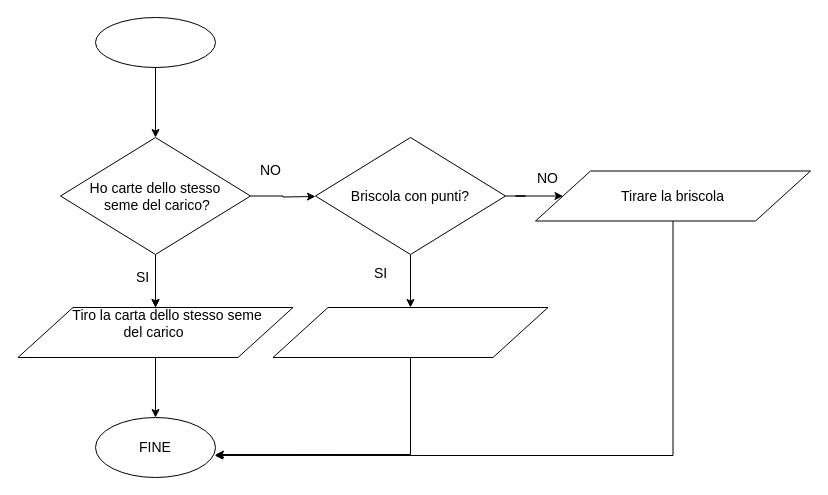
The diagram is 828 pixels wide and 495 high, and some of its shapes have lost their labels. Each missing label, with the box of its shape:
INIZIO: (94, 16, 216, 68)
Tirare la carta non briscola e non carico: (272, 306, 548, 358)
